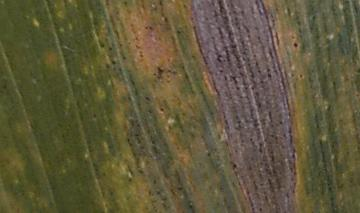tarspot: (158, 106, 165, 113), (292, 41, 298, 48), (231, 163, 238, 168), (298, 73, 303, 79)
